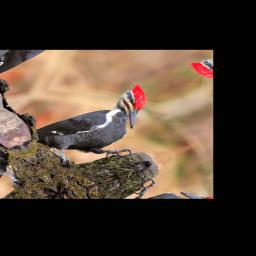Woodpecker: (28, 84, 180, 181)
